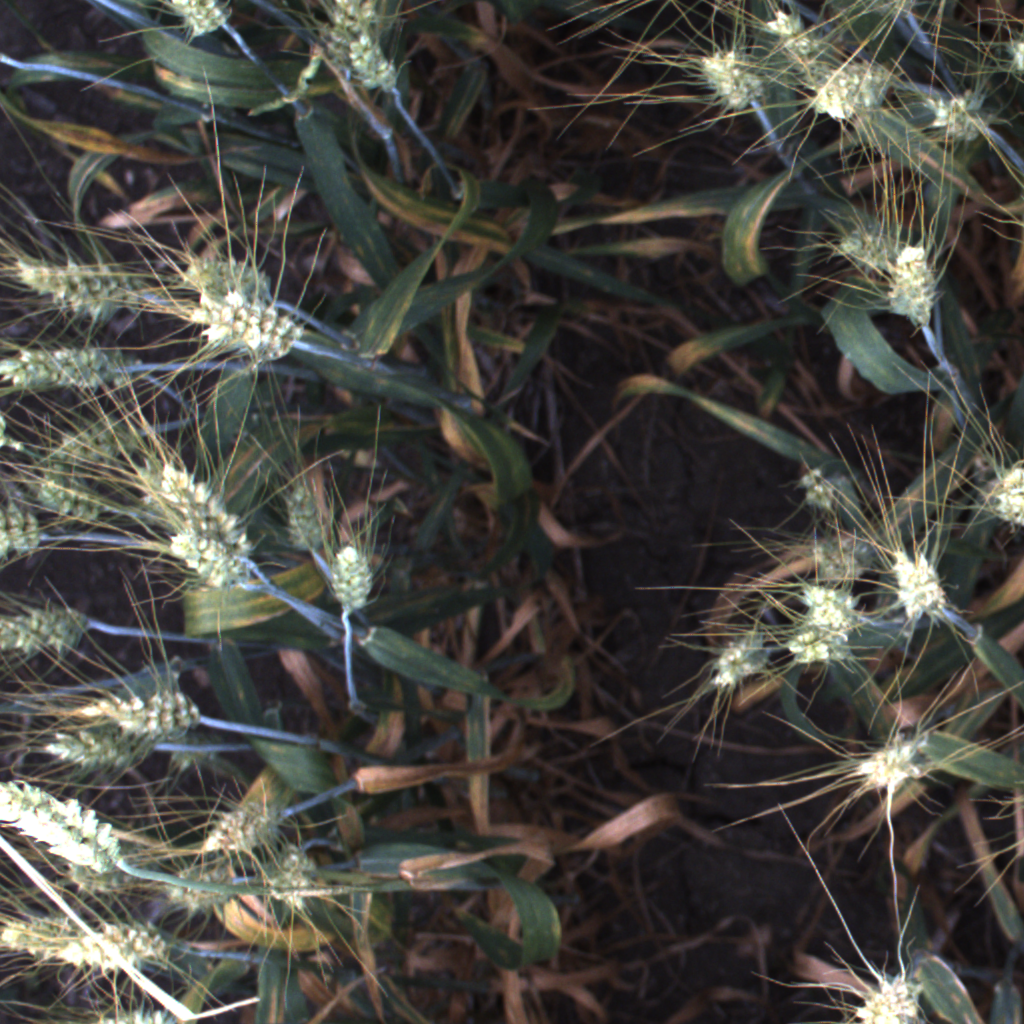wheat_head: (132, 433, 260, 556), (0, 765, 130, 884), (184, 284, 319, 377), (75, 669, 225, 752), (0, 323, 140, 407), (7, 241, 148, 319), (673, 26, 776, 130), (831, 724, 945, 809), (171, 234, 282, 317), (191, 781, 294, 867), (819, 956, 949, 1024), (51, 915, 187, 979), (309, 515, 396, 612), (0, 591, 105, 670), (879, 236, 947, 345), (697, 611, 776, 703), (170, 519, 269, 592), (298, 1, 396, 73), (30, 720, 162, 773), (799, 52, 903, 119), (751, 4, 848, 75), (916, 78, 998, 151), (50, 402, 150, 461), (154, 857, 248, 918), (25, 449, 97, 525), (276, 469, 336, 560), (337, 30, 409, 103), (890, 539, 947, 628), (0, 904, 85, 963), (141, 0, 241, 49), (820, 217, 898, 271), (0, 494, 55, 570), (794, 584, 869, 639), (778, 623, 852, 676), (259, 860, 336, 909), (804, 530, 867, 585), (789, 457, 847, 515), (981, 456, 1024, 533), (77, 1000, 204, 1024), (992, 30, 1023, 80)
